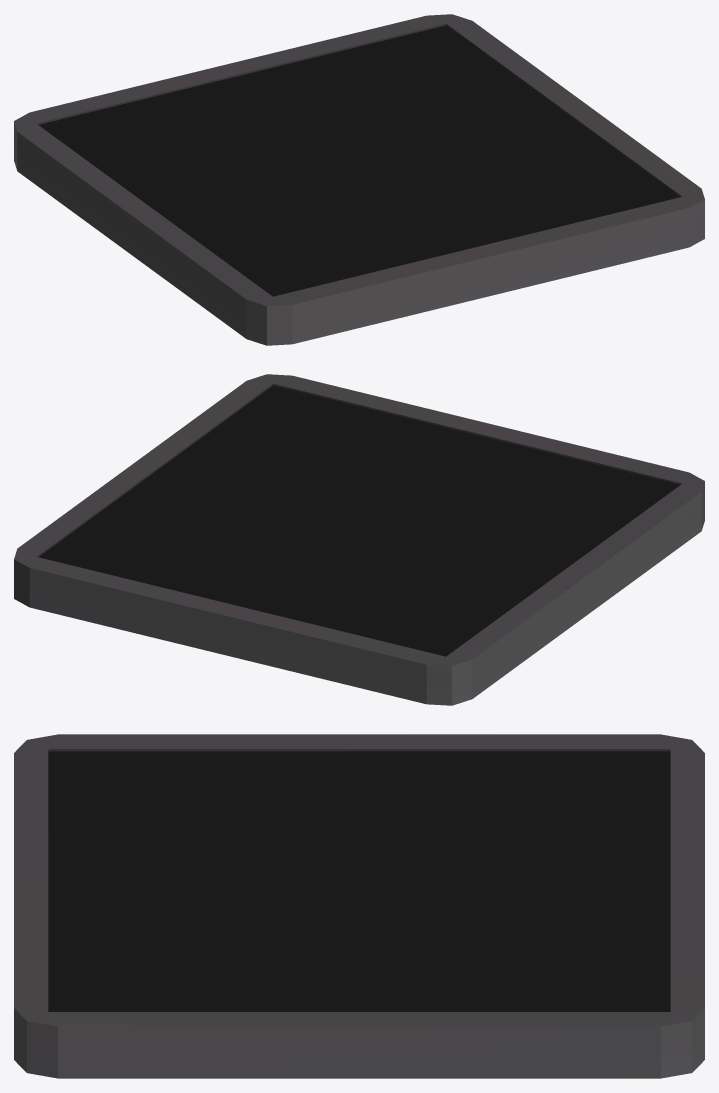
Rendered from tablet.fbx.
3 renders of one model, top to bottom at view 1: azimuth 30°, elevation 25°; view 2: azimuth 150°, elevation 25°; view 3: azimuth 270°, elevation 25°, orthographic. The views are drawn at different scales.
Parts seen in each view (by area): view 1: tablet; view 2: tablet; view 3: tablet.
Part boxes in pixels (x1,y1,x2,y2): tablet: (14, 14, 704, 345); tablet: (14, 374, 704, 705); tablet: (14, 734, 704, 1078).
Bounding box in the file's own units: 2156 × 179 × 2156.
